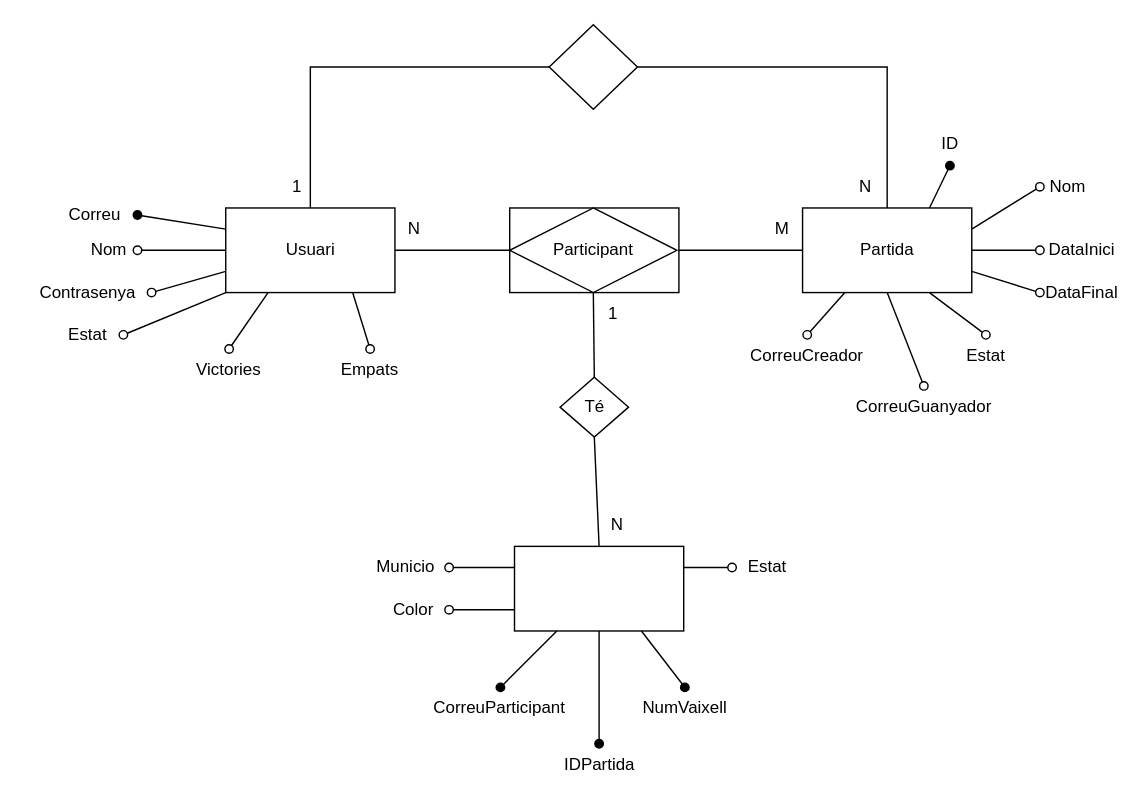
Some shapes in this 1148 by 811 pixel diagram are drawn without their labels. Here are the shapes that lost their labels. From the top down, the centre of each, then its label:
[592,66]: Crea
[598,588]: Vaixell
